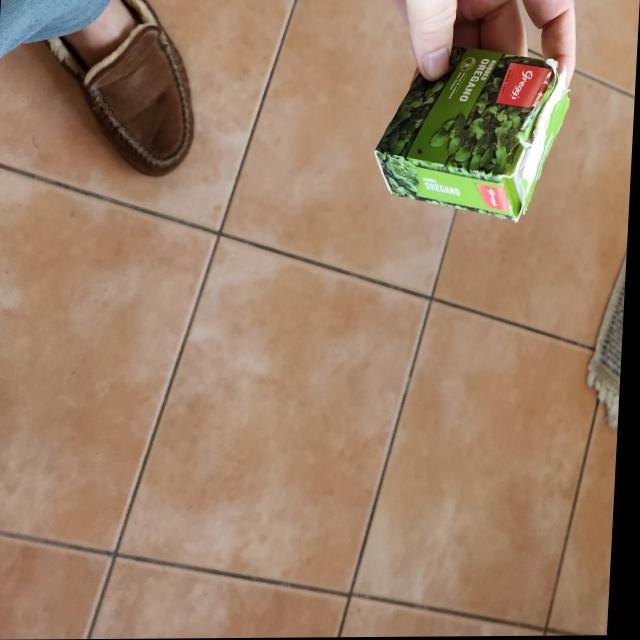oregano: (373, 42, 574, 223)
